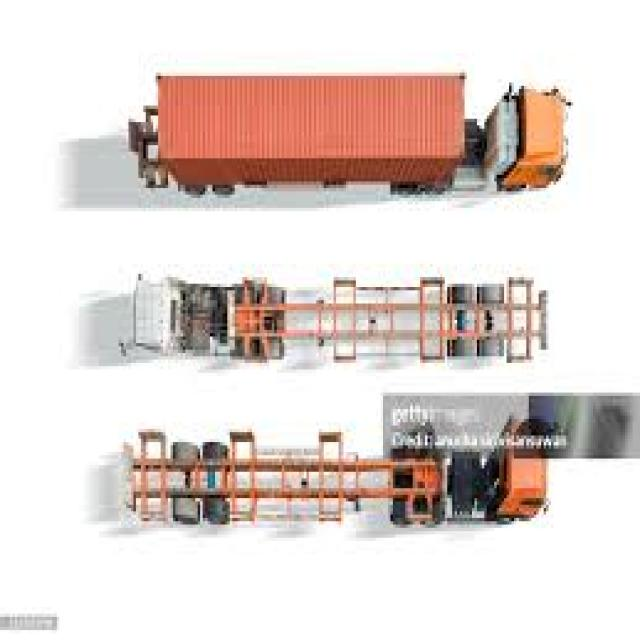truck: (133, 68, 572, 204)
